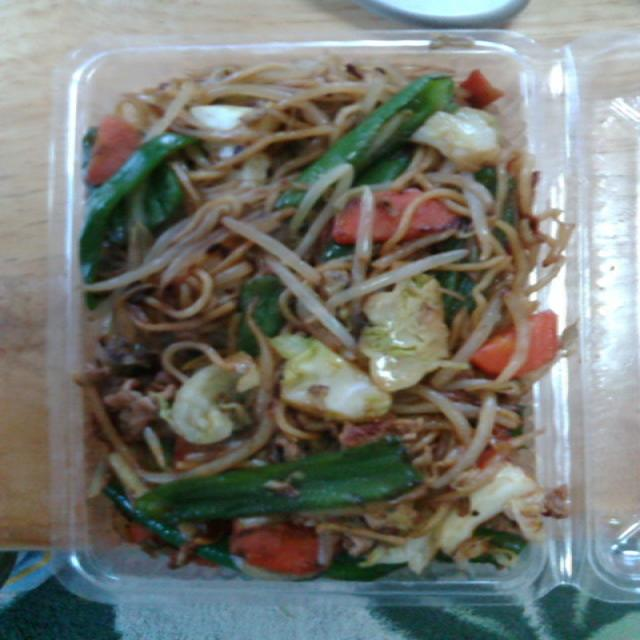面条主食: (72, 30, 640, 396)
